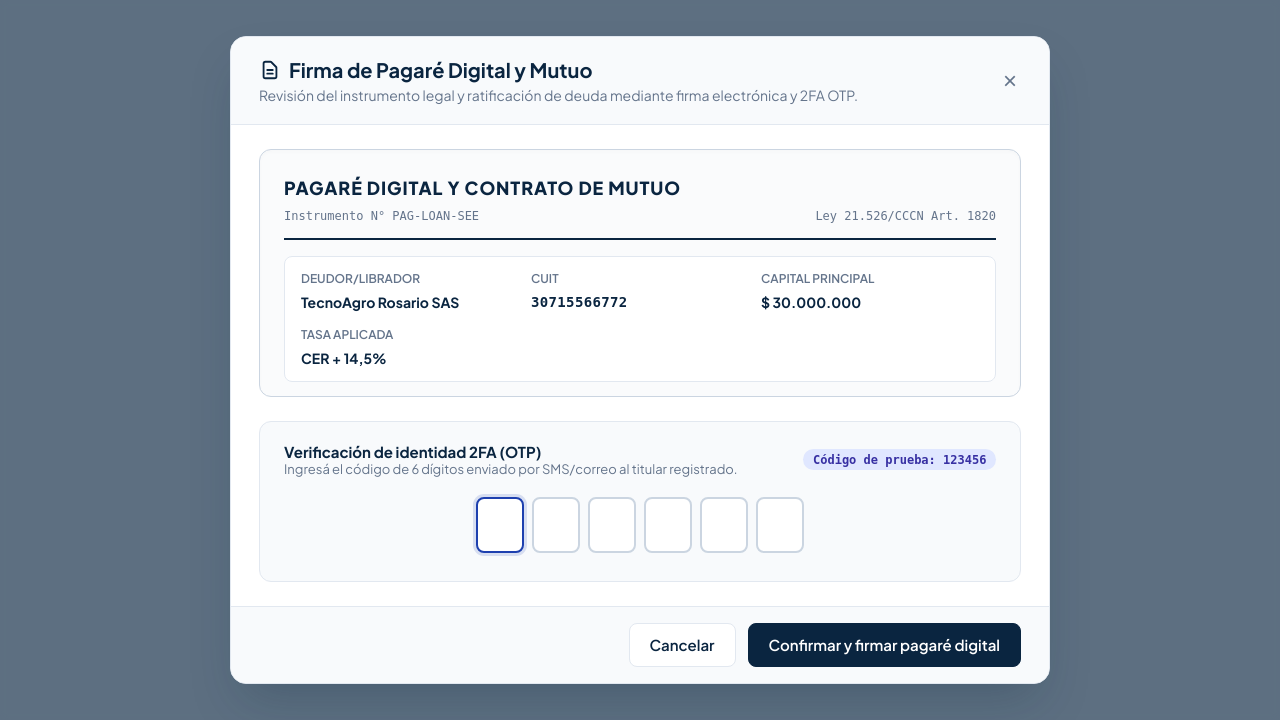
Test case: PromissoryNoteModal Component & Signing Flow (Issue #16) › displays error and prevents submission when OTP is invalid
Type "9" into the field with test id "otp-input-0". click: (500, 525)
box: [476, 497, 524, 553]
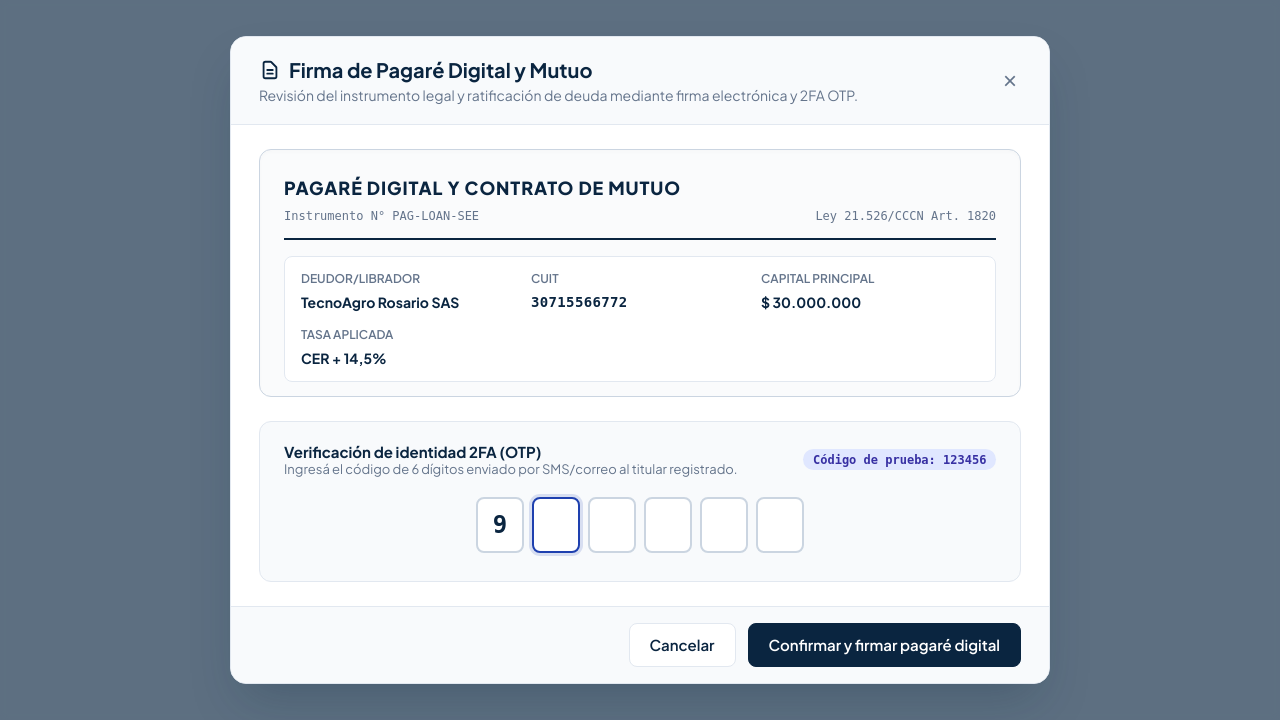
Type "9" into the field with test id "otp-input-1". click: (556, 525)
box: [532, 497, 580, 553]
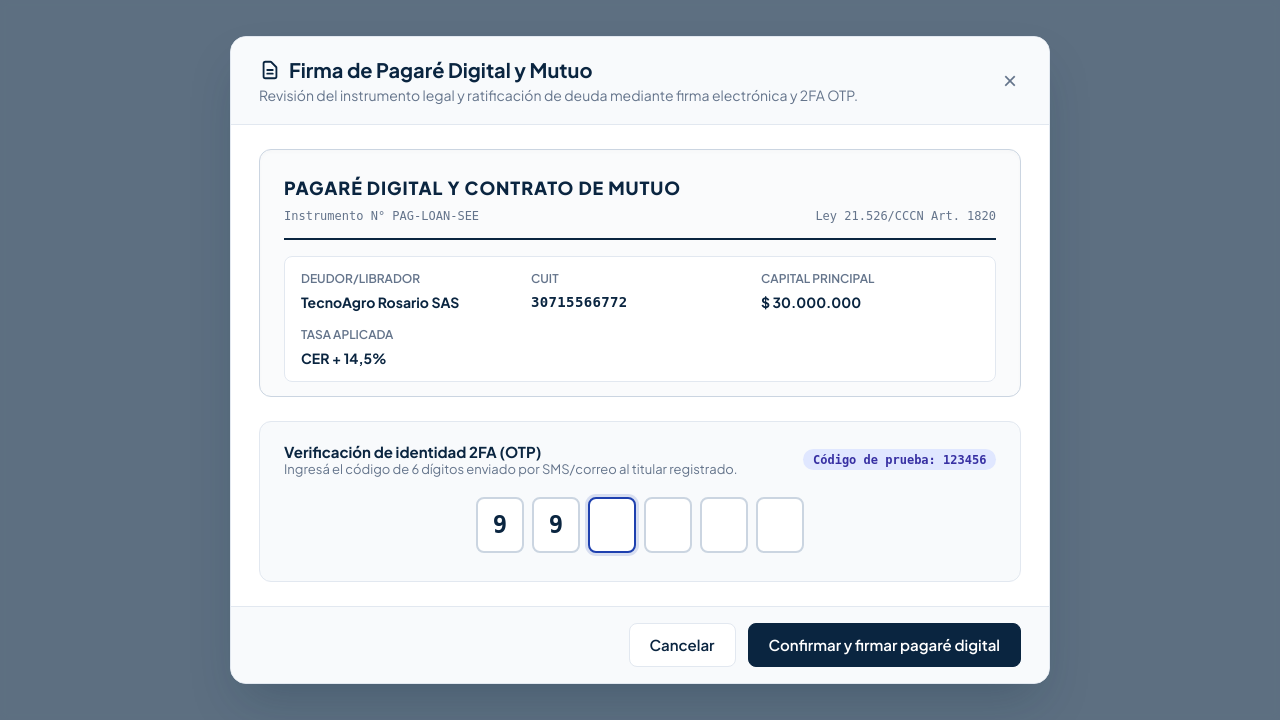
Type "9" into the field with test id "otp-input-2". click: (612, 525)
box: [588, 497, 636, 553]
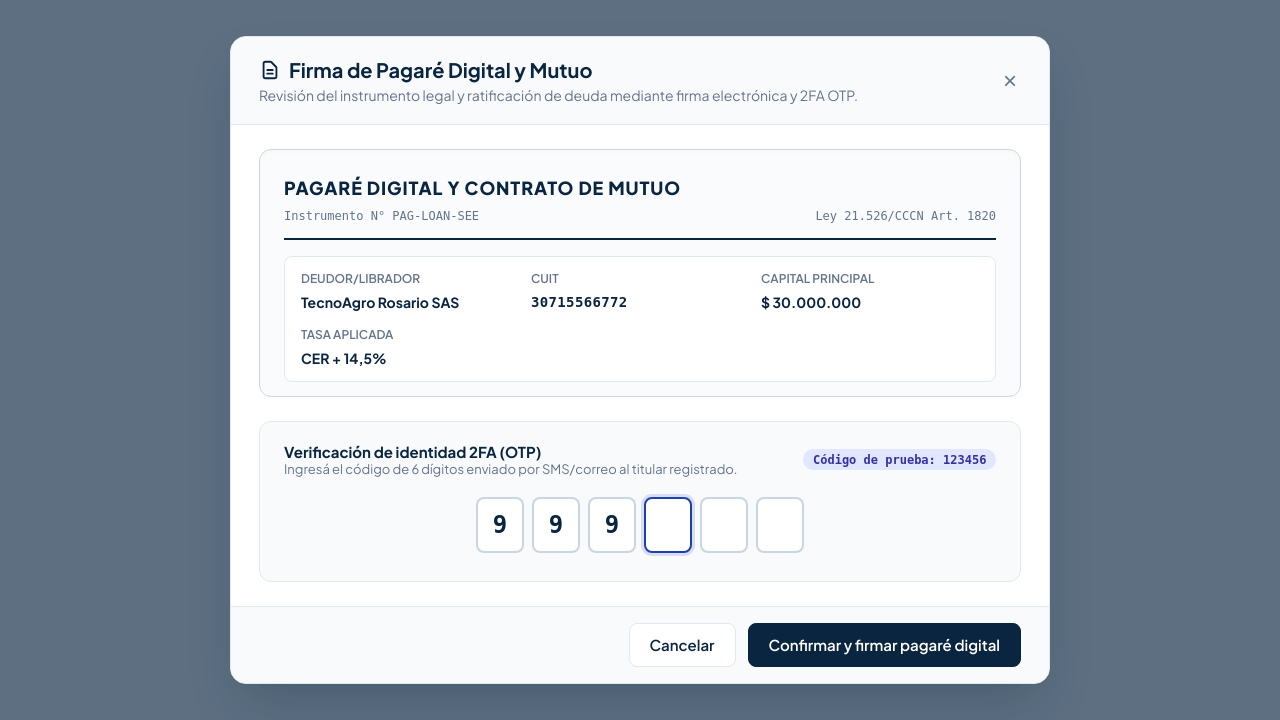
Type "9" into the field named "Dígito 4 del código OTP". click: (668, 525)
box: [644, 497, 692, 553]
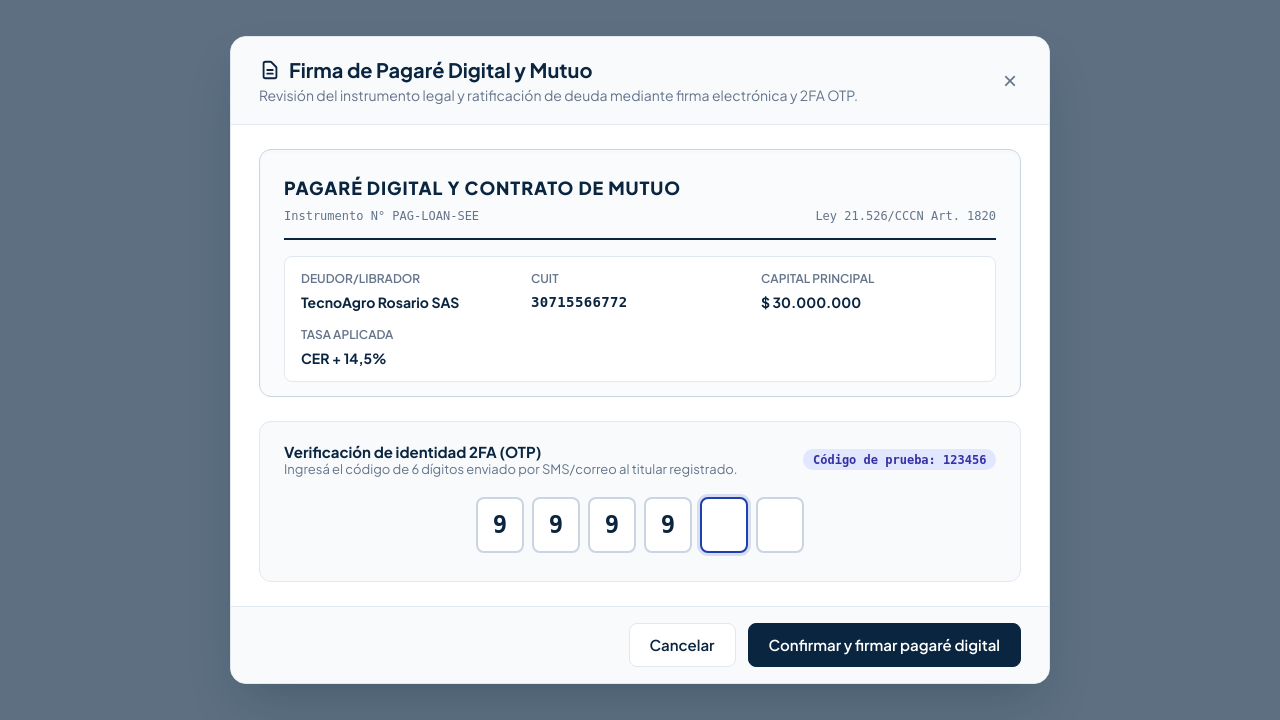
Type "9" into the field named "Dígito 5 del código OTP". click: (724, 525)
box: [700, 497, 748, 553]
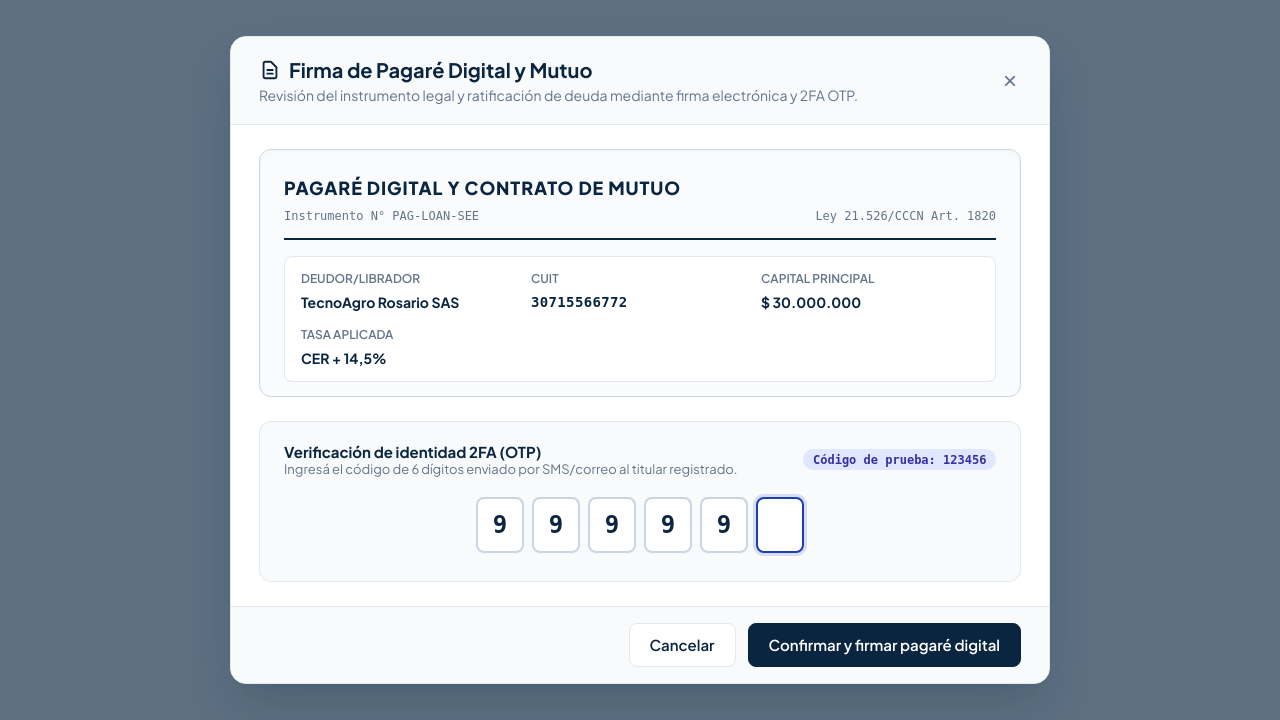
Type "9" into the field named "Dígito 6 del código OTP". click: (780, 525)
box: [756, 497, 804, 553]
Click the button with test id "btn-confirm-sign". click: (884, 645)
box: [748, 623, 1021, 667]
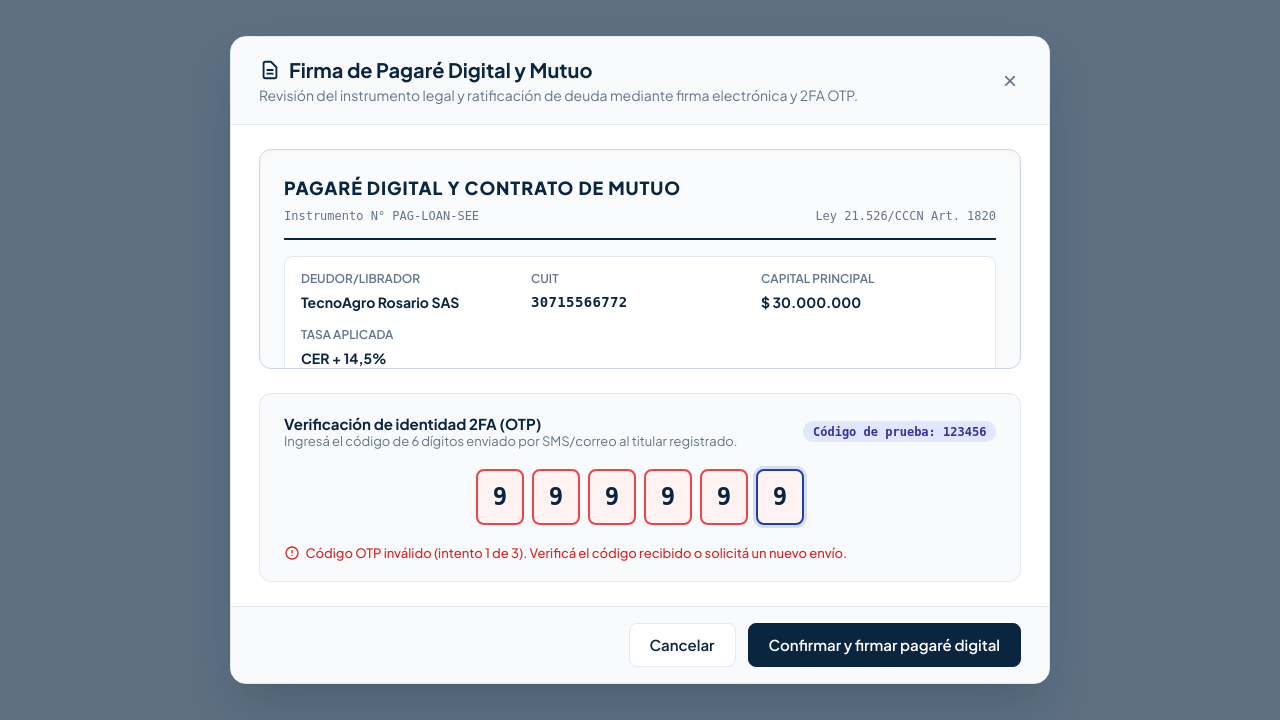
Now the message with test id "otp-error-message" shows "Código OTP inválido", box [306, 545, 847, 561]
